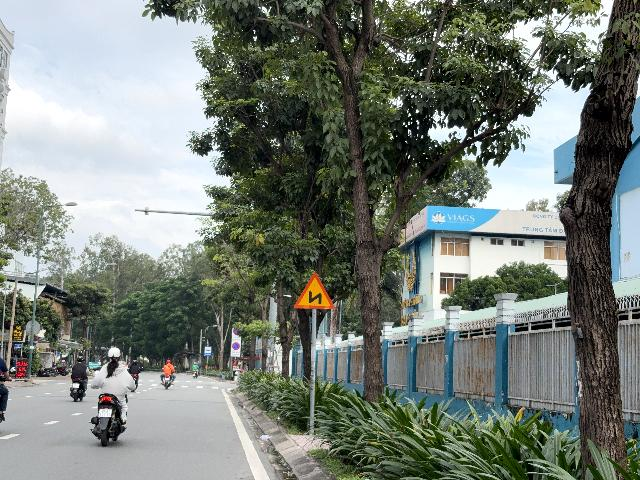nhieu-cho-ngoat-nguy-hiem-lien-tiep: (294, 272, 334, 309)
